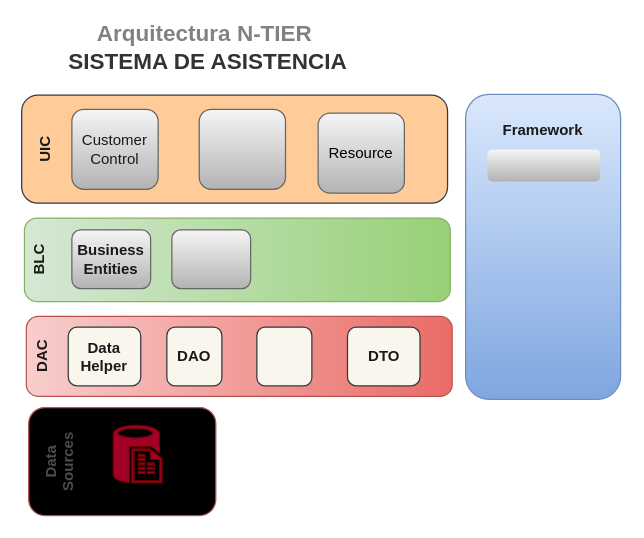
This 644x538 diagram has some shape labels left out. The shapes that lost their labels are listed below. From the top down, each one's centre as x and y in pixels, then its label:
the point at 242,148: User Control
the point at 543,165: Exception
the point at 211,259: BLFactory
the point at 284,356: IDAO
the point at 137,453: SQLITE
